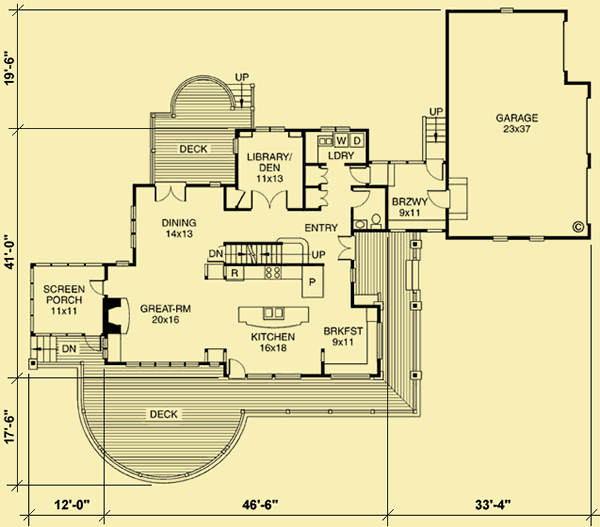door: (248, 187, 291, 214), (151, 181, 190, 204), (424, 186, 453, 210), (336, 233, 357, 263), (226, 354, 249, 381), (424, 155, 446, 183), (349, 184, 372, 210), (347, 163, 375, 183), (86, 275, 106, 298), (83, 332, 102, 354), (232, 186, 246, 213), (316, 166, 330, 186), (316, 189, 330, 208)
kitchen bar: (237, 302, 313, 331)
large sink: (369, 214, 383, 230)
stairs: (221, 239, 286, 264), (420, 114, 450, 158), (225, 78, 258, 112), (29, 332, 59, 368)
windows: (124, 358, 202, 370), (32, 260, 104, 270), (327, 371, 375, 381), (254, 122, 288, 136), (374, 320, 385, 363), (130, 205, 139, 249), (318, 124, 350, 132)
